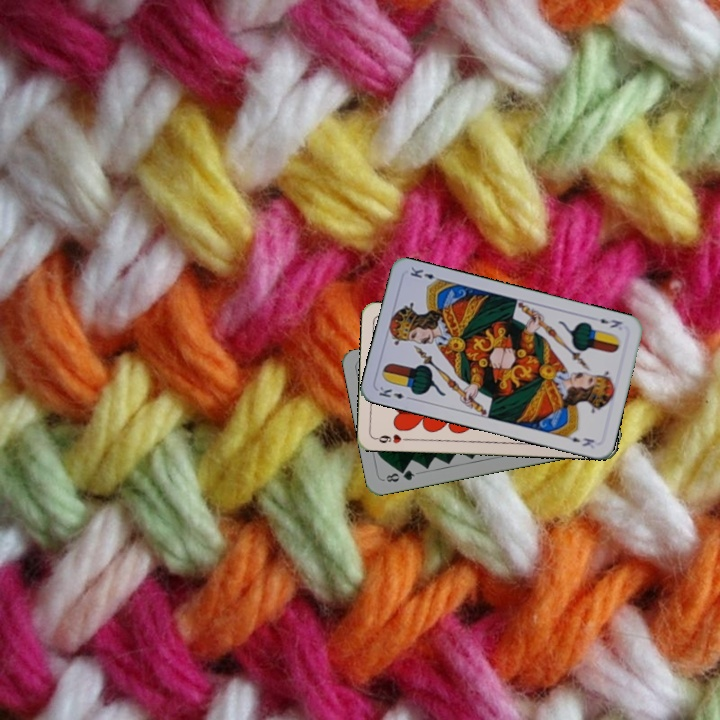EK: (375, 383, 415, 403), (596, 314, 625, 331)
G8: (382, 466, 417, 485)
H9: (372, 430, 412, 446)
